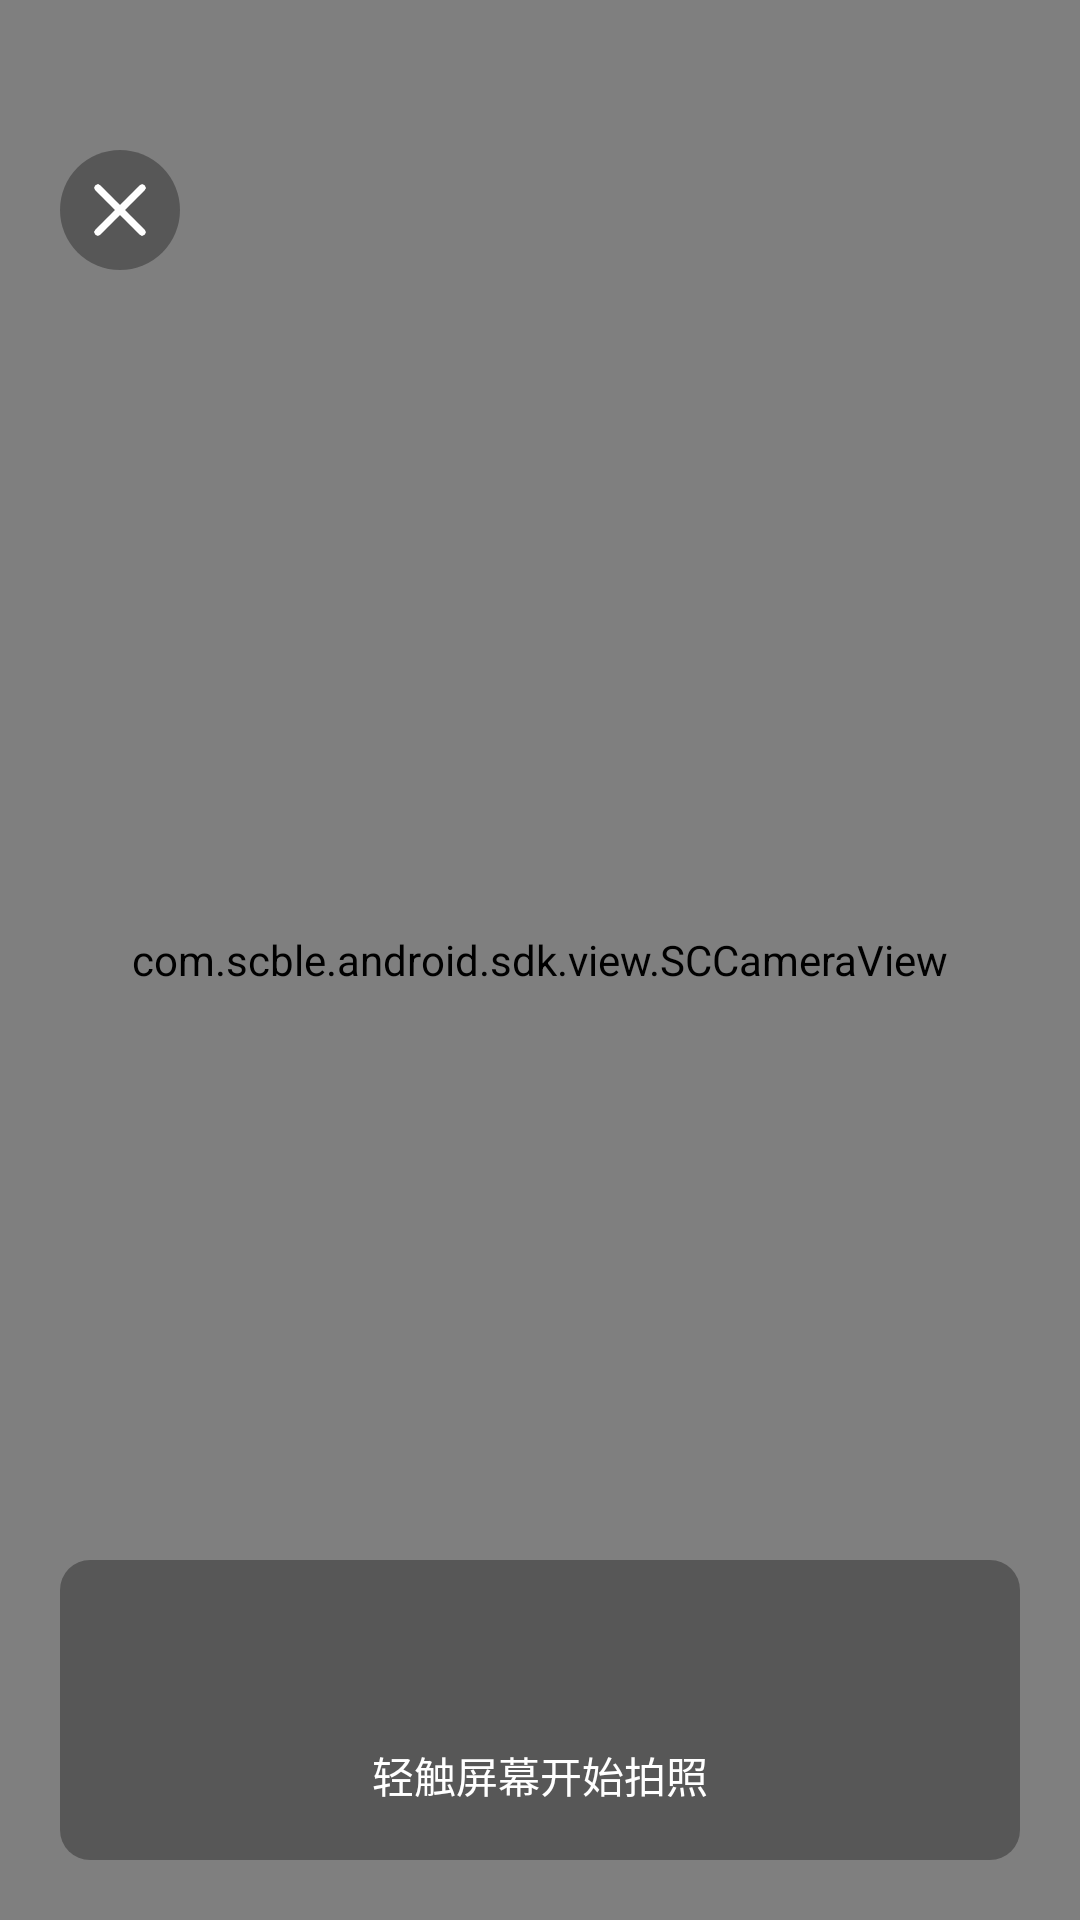

Screen size 1080x1920. Icon name, then its center in pixels as (x,y):
skin close: (120,210)
